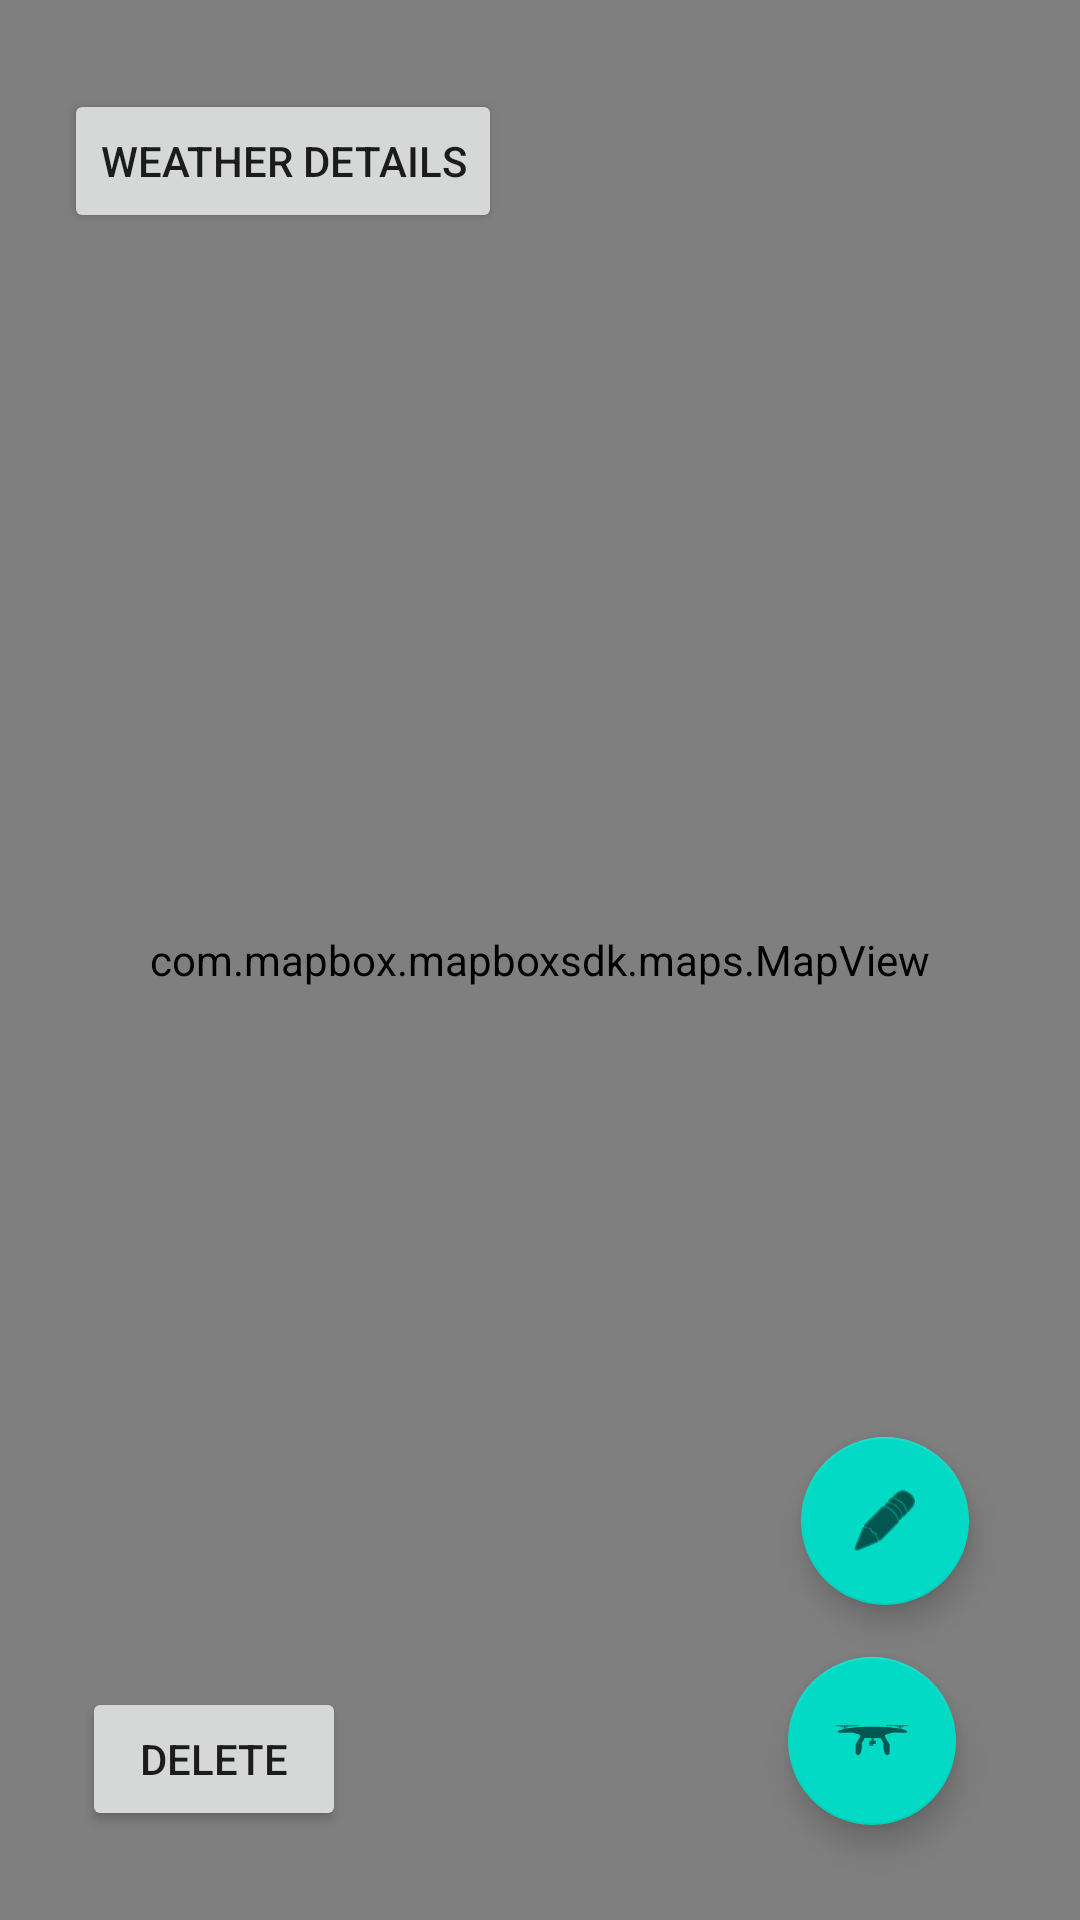

Icons on this 1080 × 1920 Android screen, each with its box as [x1=x1, y1=y1, x2=x2, y2=y2]:
drone: [x1=788, y1=1657, x2=956, y2=1825]
edit: [x1=801, y1=1437, x2=969, y2=1605]
